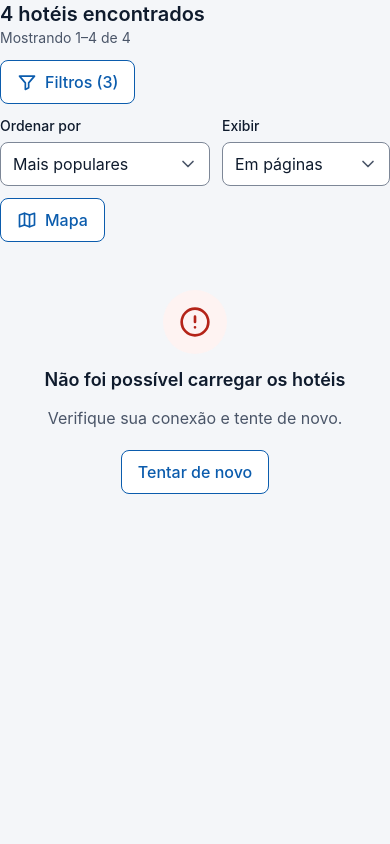
FiltersDrawer (critério 29) › o gatilho mostra o contador e abre o sheet com o foco no slider Mínimo
Click the button "Filtros (3)" at (68, 82), box [0,60,135,104]
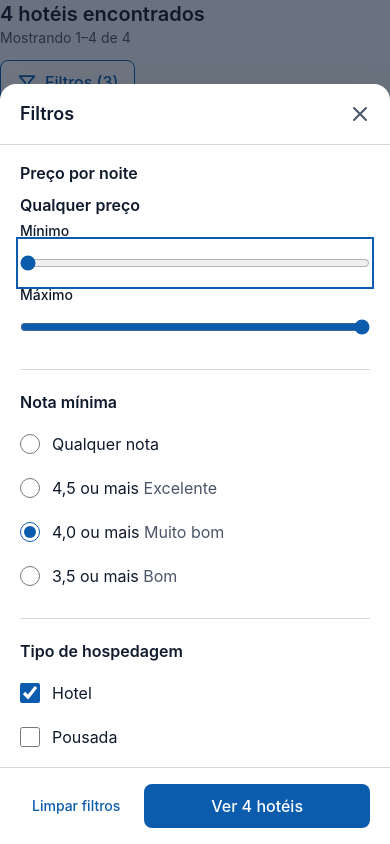
Expected: the button named "Fechar filtros" is shown, [338,92,382,136]
